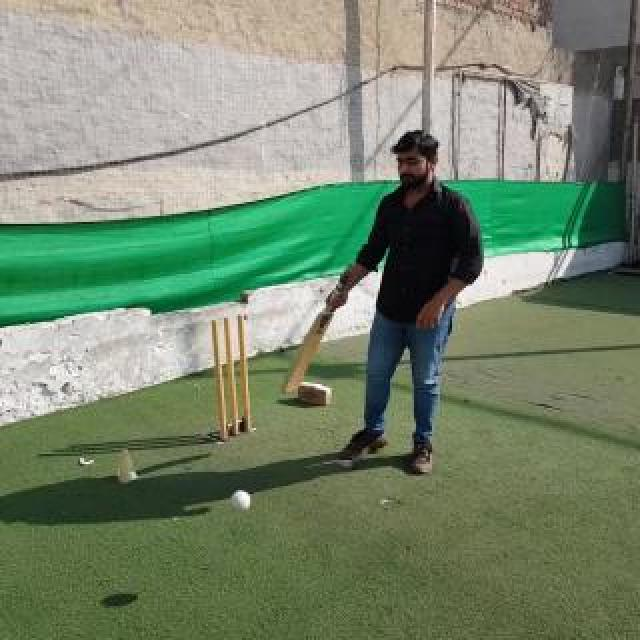ball: (232, 492, 250, 512)
bat: (282, 262, 354, 396)
